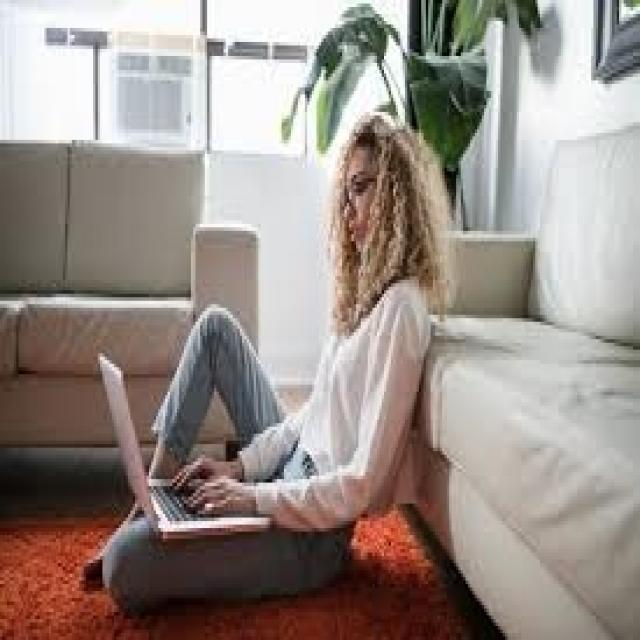sitting: (83, 103, 451, 617)
